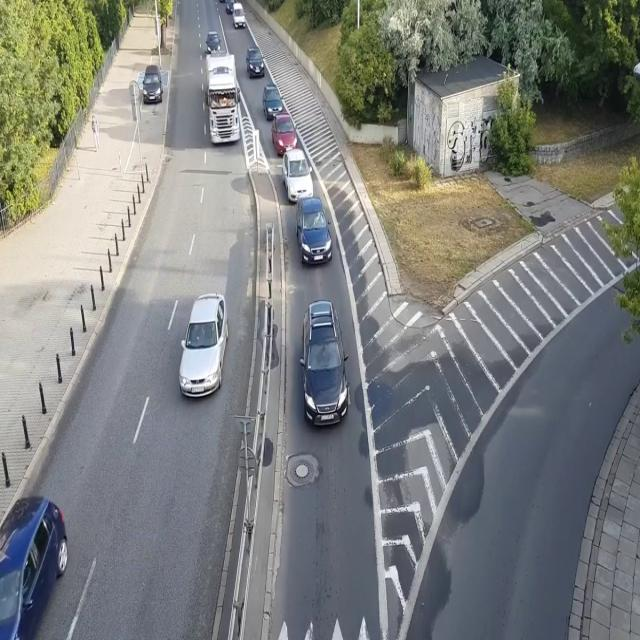car: (0, 492, 68, 640), (298, 300, 350, 426), (180, 293, 228, 398), (295, 198, 333, 268), (283, 148, 315, 204), (271, 111, 299, 156), (142, 66, 164, 106), (262, 81, 284, 117), (247, 46, 265, 76), (205, 30, 221, 54), (224, 0, 236, 14)
truck: (204, 51, 241, 143)
van: (232, 2, 246, 32)
